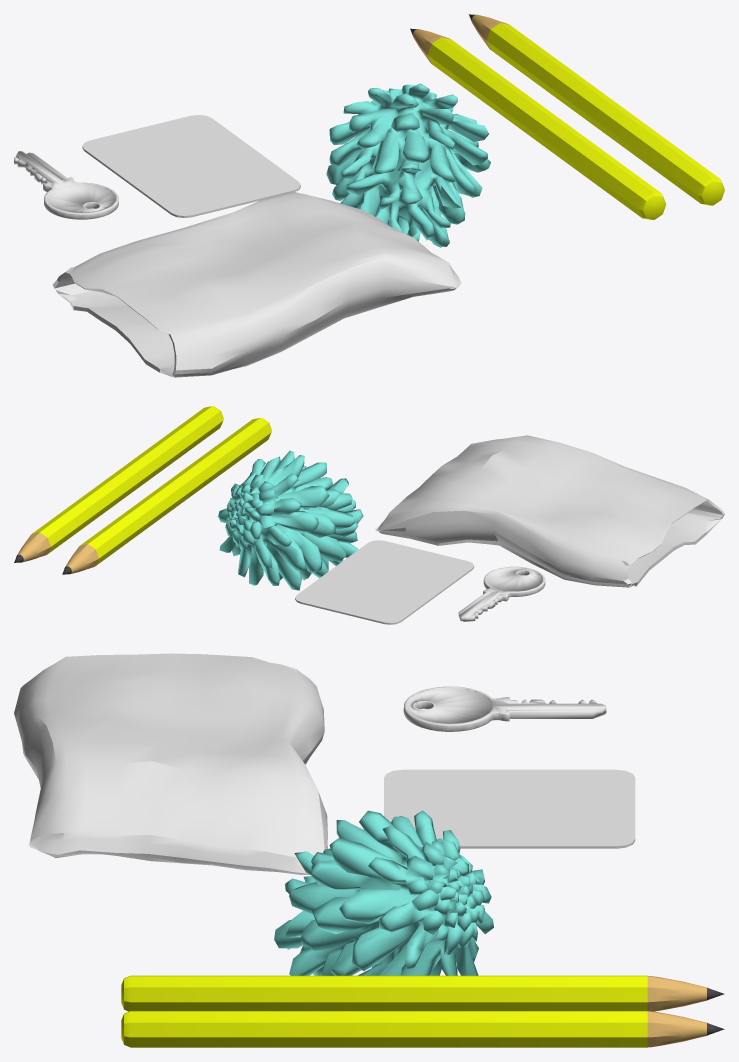
File: Props_lvl3.fbx
3 views of the same model, one above another, from view 1: azimuth 30°, elevation 25°; view 2: azimuth 150°, elevation 25°; view 3: azimuth 270°, elevation 25° (orthographic). The views are drawn at different scales.
Visible parts, largest first — view 1: CrispsBag, Pine_Cone_02, Card, Pen, Pencil, Key; view 2: CrispsBag, Pine_Cone_02, Card, Pencil, Pen, Key; view 3: CrispsBag, Pine_Cone_02, Pen, Pencil, Card, Key.
Part boxes in pixels (x1,y1,x2,y2): CrispsBag: [52, 191, 461, 377]; Pine_Cone_02: [326, 83, 490, 247]; Card: [82, 115, 300, 217]; Pen: [469, 14, 724, 205]; Pencil: [410, 28, 666, 219]; Key: [14, 151, 118, 219]; CrispsBag: [375, 435, 724, 587]; Pine_Cone_02: [217, 450, 363, 590]; Card: [295, 540, 474, 624]; Pencil: [62, 418, 271, 574]; Pen: [14, 406, 223, 562]; Key: [458, 566, 545, 621]; CrispsBag: [14, 653, 327, 874]; Pine_Cone_02: [274, 810, 493, 975]; Pen: [121, 1011, 724, 1047]; Pencil: [121, 975, 724, 1011]; Card: [384, 769, 635, 848]; Key: [403, 686, 606, 731].
Size of the model in its own units: 36.83 by 44.15 by 10.54.
